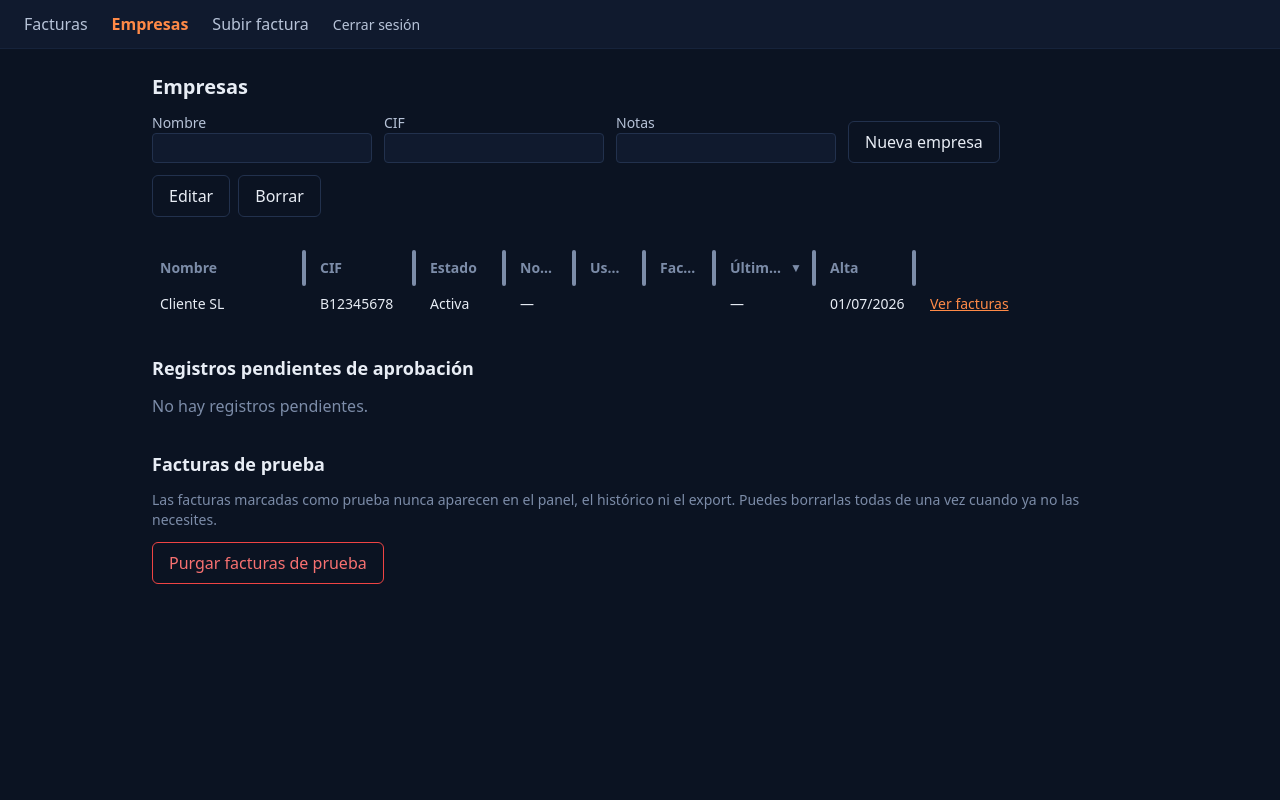
Test case: AppRoutes (S4.9) › C12: "Ver facturas" desde una empresa navega al panel con esa empresa preseleccionada
Expected: the heading "Empresas" is shown, [152, 73, 248, 100]
Click the button "Ver facturas" at (969, 304), box [930, 294, 1009, 314]
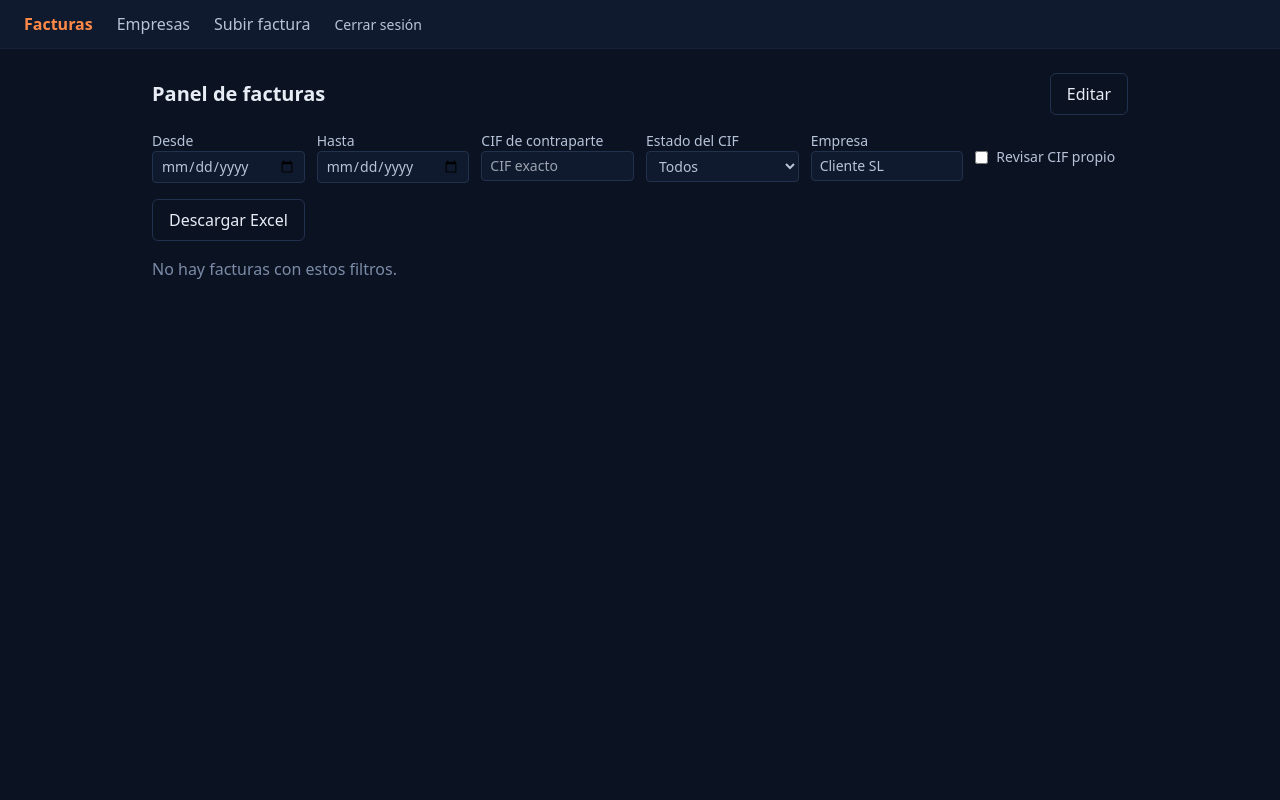
Now the heading "Panel de facturas" is shown, box [152, 80, 325, 108]
Now the dropdown labelled "Empresa" holds "Cliente SL", box [811, 151, 963, 181]
